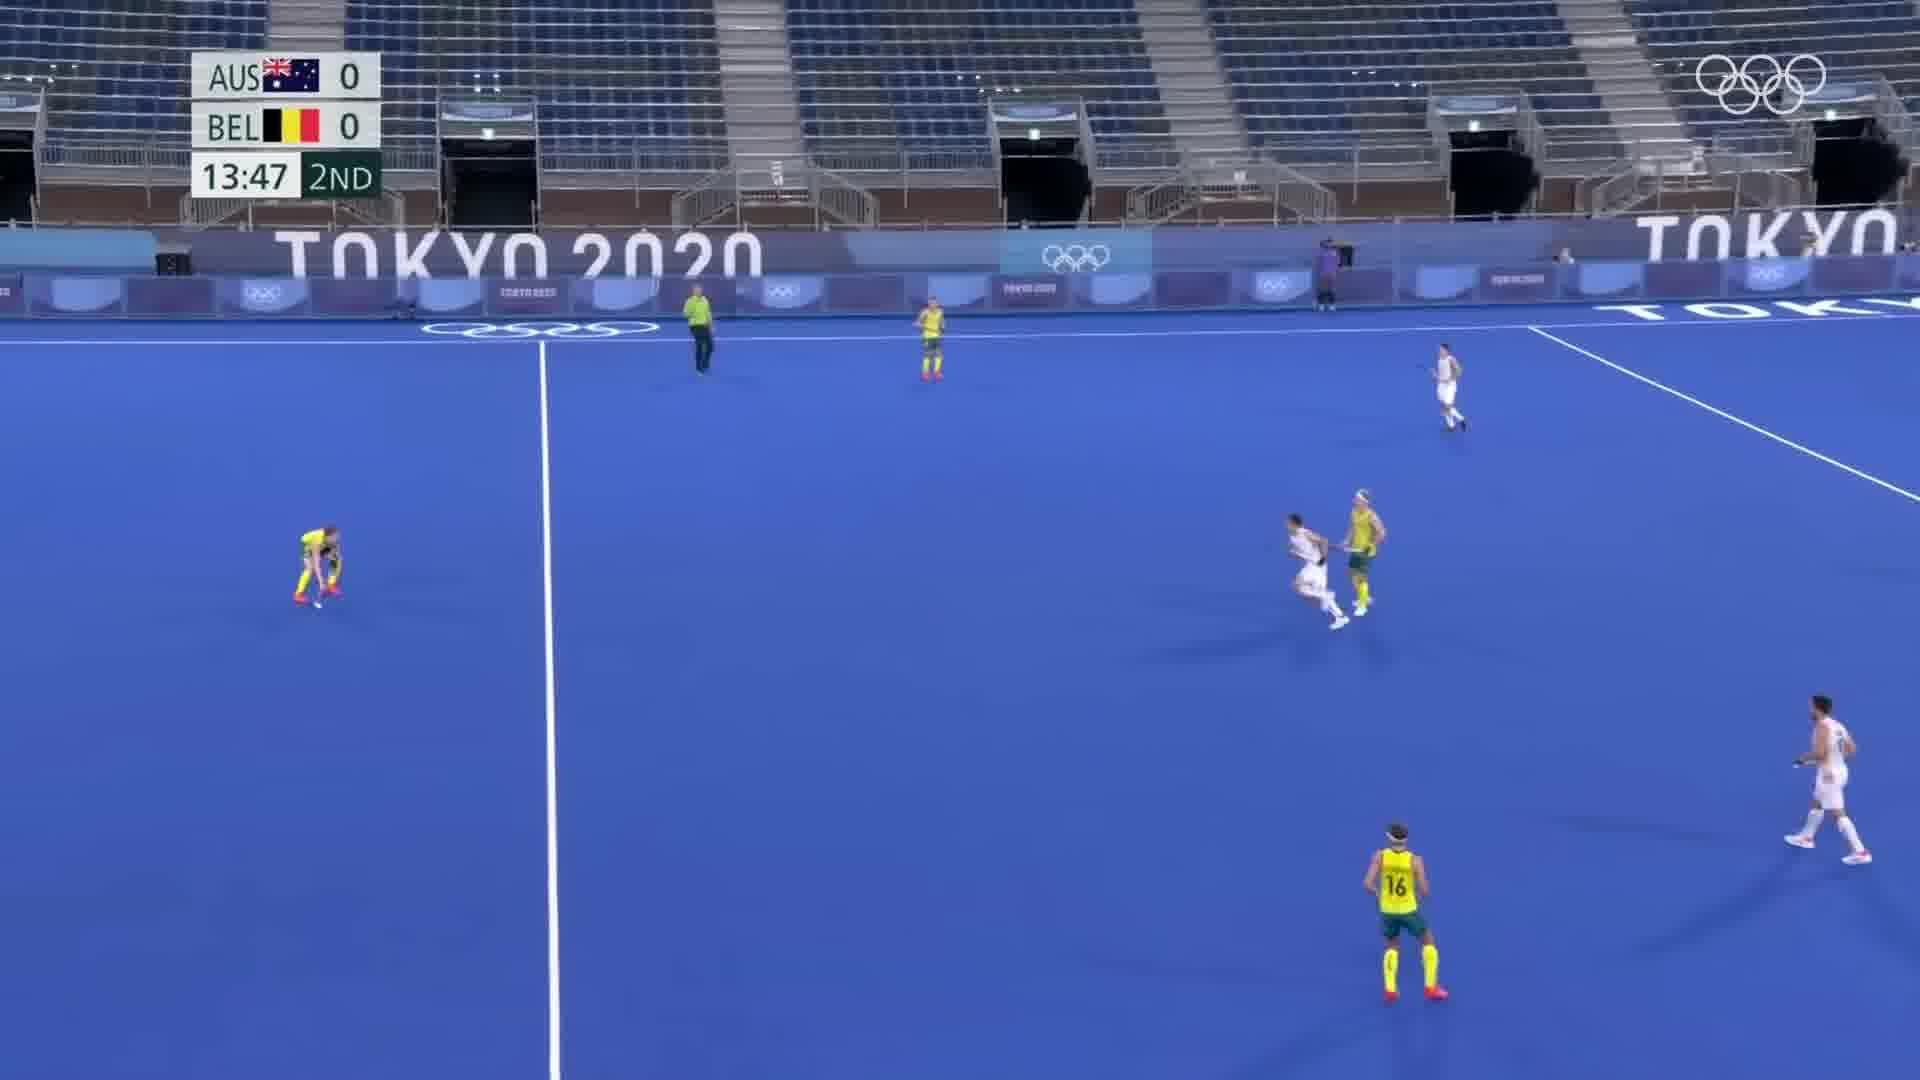ball: (311, 597, 327, 613)
